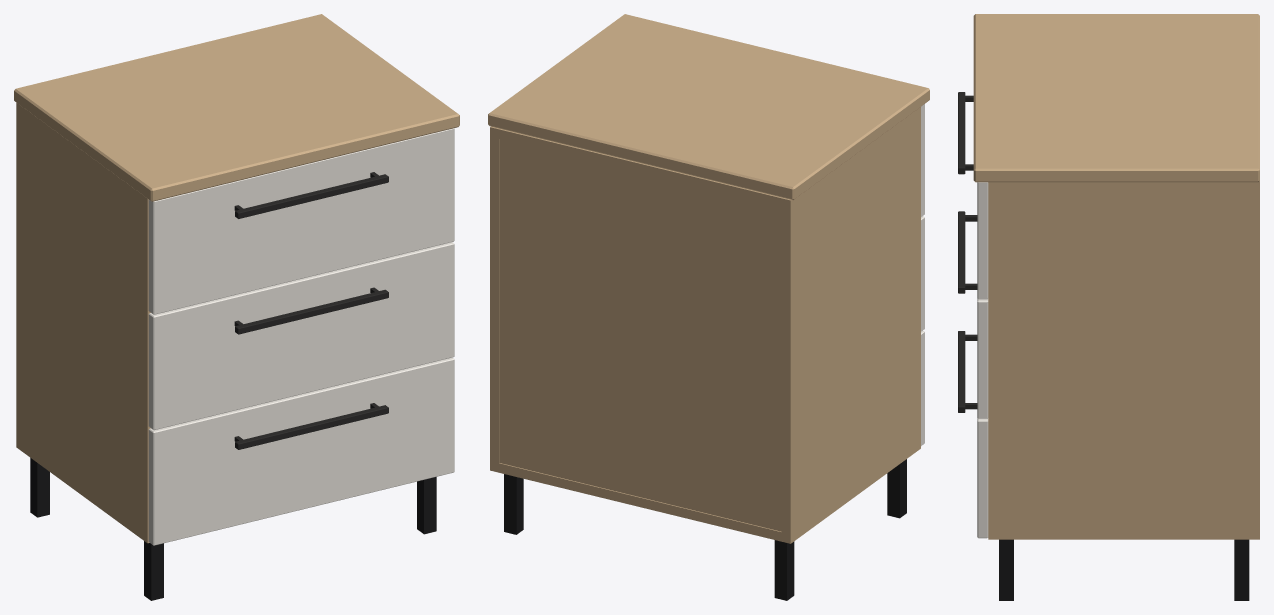
The model's file is 04_komoda_60_3sz.glb.
3 renders of one model, left to right at view 1: azimuth 30°, elevation 25°; view 2: azimuth 150°, elevation 25°; view 3: azimuth 270°, elevation 25°, orthographic. The views are drawn at different scales.
Visible parts, largest first — view 1: Wierzch, Korpus, Front_szuflada_2, Front_szuflada_3, Front_szuflada_1, Uchwyty, Nogi; view 2: Korpus, Wierzch, Nogi; view 3: Korpus, Wierzch, Uchwyty, Nogi, Front_szuflada_3, Front_szuflada_2, Front_szuflada_1.
Boxes of the visible parts, left/top/right/bottom form: Wierzch: left=14, top=14, right=459, bottom=201; Korpus: left=16, top=103, right=150, bottom=543; Front_szuflada_2: left=148, top=242, right=454, bottom=430; Front_szuflada_3: left=148, top=357, right=454, bottom=545; Front_szuflada_1: left=148, top=128, right=454, bottom=314; Uchwyty: left=234, top=172, right=388, bottom=449; Nogi: left=30, top=458, right=436, bottom=600; Korpus: left=490, top=107, right=920, bottom=543; Wierzch: left=488, top=14, right=929, bottom=199; Nogi: left=504, top=459, right=906, bottom=600; Korpus: left=988, top=181, right=1259, bottom=539; Wierzch: left=973, top=14, right=1259, bottom=182; Uchwyty: left=958, top=92, right=977, bottom=412; Nogi: left=999, top=539, right=1249, bottom=600; Front_szuflada_3: left=977, top=418, right=988, bottom=538; Front_szuflada_2: left=977, top=299, right=988, bottom=418; Front_szuflada_1: left=977, top=182, right=988, bottom=299.
Bounding box in the file's own units: 0.612 × 0.8 × 0.5.
